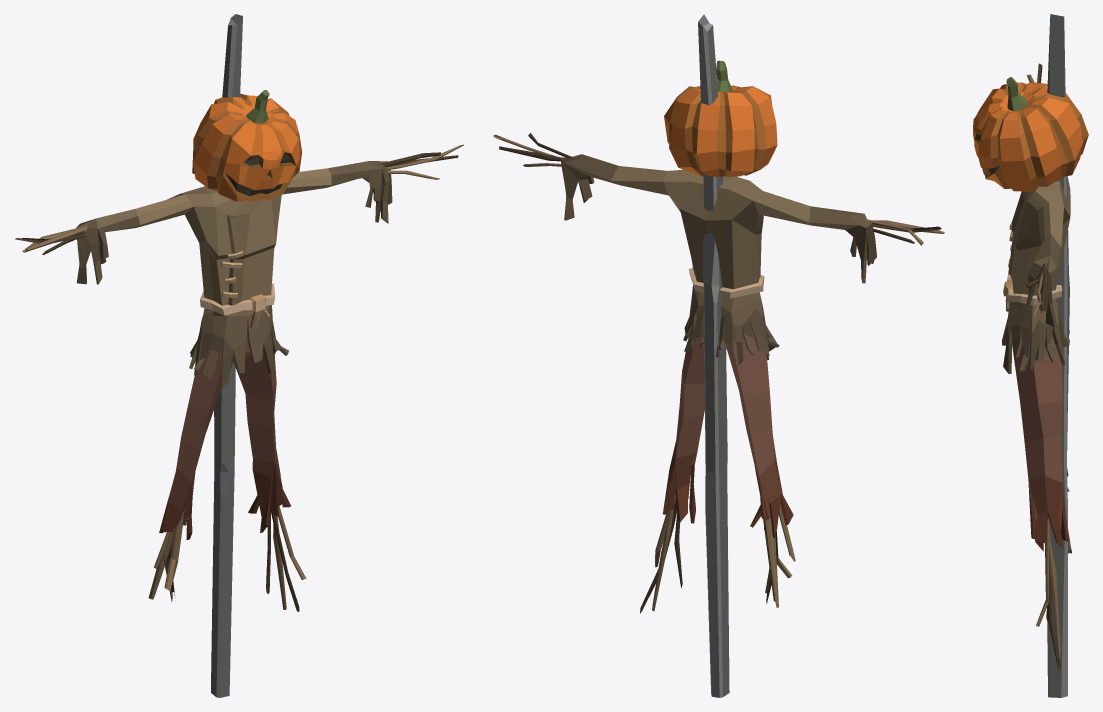
Rendered from WF_LP_HT_Props_Scarecrow.002.fbx.
3 views of the same model, side by side, from view 1: azimuth 30°, elevation 25°; view 2: azimuth 150°, elevation 25°; view 3: azimuth 270°, elevation 25° (orthographic). The views are drawn at different scales.
Parts seen in each view (by area): view 1: WF_LP_HT_Props_Scarecrow.002; view 2: WF_LP_HT_Props_Scarecrow.002; view 3: WF_LP_HT_Props_Scarecrow.002.
Boxes of the visible parts, left/top/right/bottom form: WF_LP_HT_Props_Scarecrow.002: left=15, top=14, right=463, bottom=697; WF_LP_HT_Props_Scarecrow.002: left=493, top=14, right=944, bottom=697; WF_LP_HT_Props_Scarecrow.002: left=973, top=14, right=1088, bottom=697.
Bounding box in the file's own units: 1.73 × 2.48 × 0.3774.
